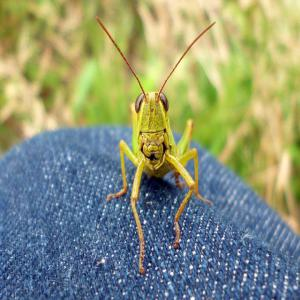locust: (93, 23, 219, 241)
